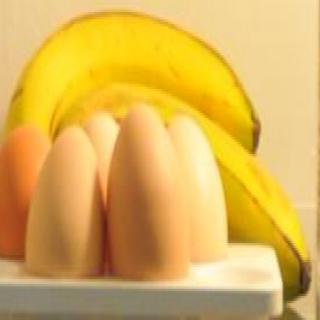banana: (0, 2, 320, 320)
